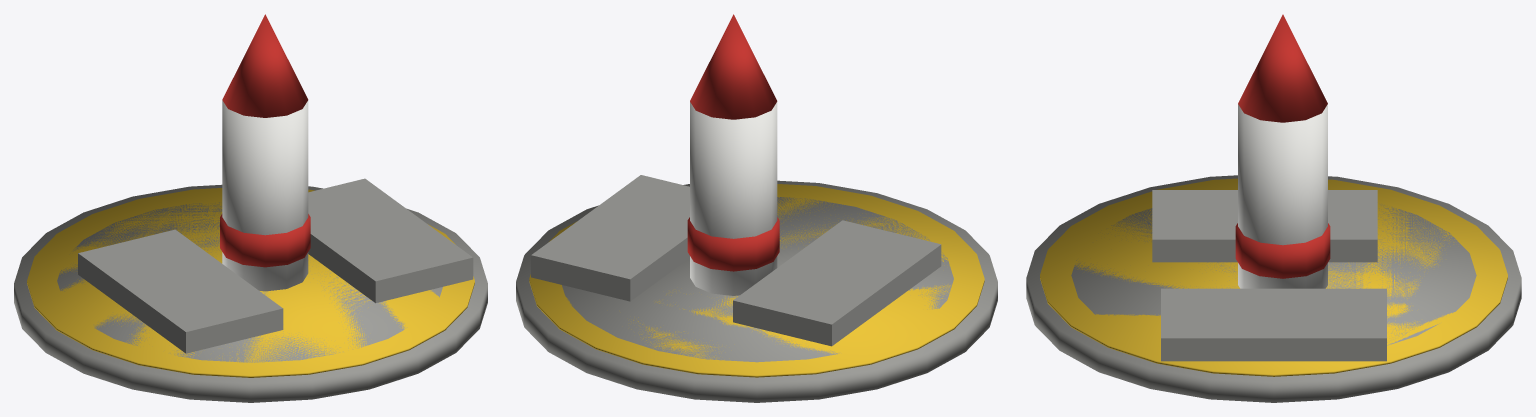
File: improvement_missile_silo.fbx
3 views of the same model, side by side, from view 1: azimuth 30°, elevation 25°; view 2: azimuth 150°, elevation 25°; view 3: azimuth 270°, elevation 25° (orthographic). The views are drawn at different scales.
Parts seen in each view (by area): view 1: improvement_missile_silo_concrete_00, improvement_missile_silo_hazard_04, improvement_missile_silo_missile_02, improvement_missile_silo_missiler_03; view 2: improvement_missile_silo_concrete_00, improvement_missile_silo_hazard_04, improvement_missile_silo_missile_02, improvement_missile_silo_missiler_03; view 3: improvement_missile_silo_concrete_00, improvement_missile_silo_hazard_04, improvement_missile_silo_missile_02, improvement_missile_silo_missiler_03.
Part boxes in pixels (left/top/right/bottom): improvement_missile_silo_concrete_00: left=14, top=178, right=487, bottom=402; improvement_missile_silo_hazard_04: left=27, top=188, right=474, bottom=377; improvement_missile_silo_missile_02: left=222, top=100, right=308, bottom=291; improvement_missile_silo_missiler_03: left=220, top=14, right=310, bottom=267; improvement_missile_silo_concrete_00: left=516, top=175, right=997, bottom=402; improvement_missile_silo_hazard_04: left=529, top=184, right=984, bottom=377; improvement_missile_silo_missile_02: left=690, top=102, right=777, bottom=295; improvement_missile_silo_missiler_03: left=687, top=14, right=779, bottom=271; improvement_missile_silo_concrete_00: left=1026, top=175, right=1521, bottom=402; improvement_missile_silo_hazard_04: left=1040, top=178, right=1507, bottom=376; improvement_missile_silo_missile_02: left=1238, top=104, right=1327, bottom=288; improvement_missile_silo_missiler_03: left=1235, top=14, right=1330, bottom=278.
Bounding box in the file's own units: 110 × 72 × 110.
